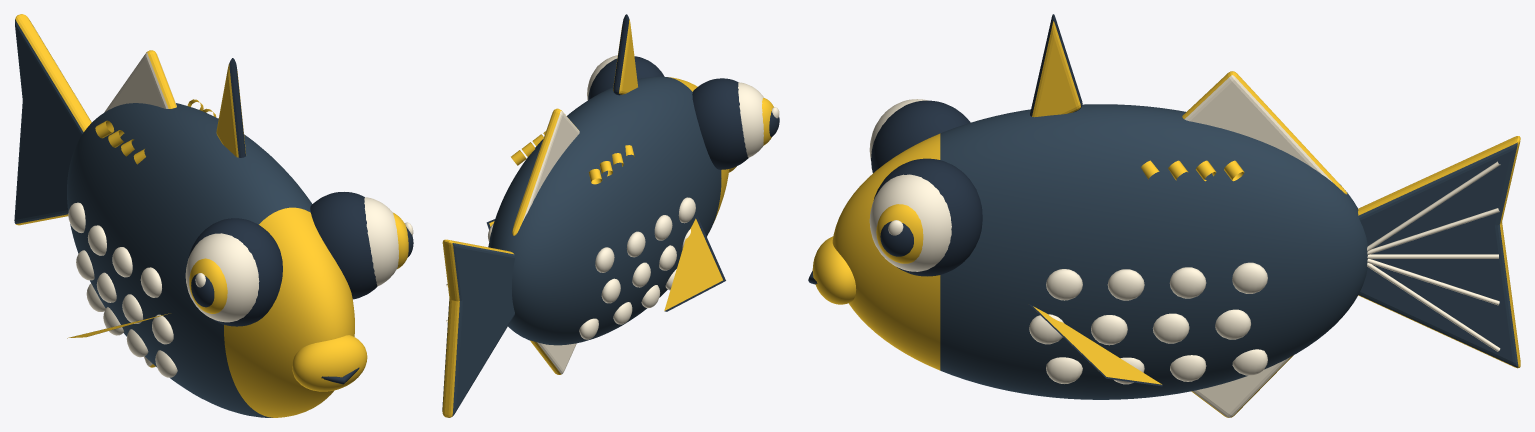
Rendered from triggerfish-hd.glb.
The picture shows the model from 3 angles, left to right: view 1: azimuth 30°, elevation 25°; view 2: azimuth 150°, elevation 25°; view 3: azimuth 270°, elevation 25°; orthographic projection. The views are drawn at different scales.
Visible parts, largest first — view 1: BodyMesh, TailMesh; view 2: BodyMesh, TailMesh; view 3: BodyMesh, TailMesh.
Part boxes in pixels (left/top/right/bottom): BodyMesh: left=67, top=50, right=413, bottom=417; TailMesh: left=14, top=14, right=91, bottom=225; BodyMesh: left=486, top=14, right=779, bottom=374; TailMesh: left=442, top=239, right=514, bottom=417; BodyMesh: left=808, top=14, right=1367, bottom=417; TailMesh: left=1358, top=136, right=1520, bottom=368.
Size of the model in its own units: 1.28 by 1.59 by 2.54.
